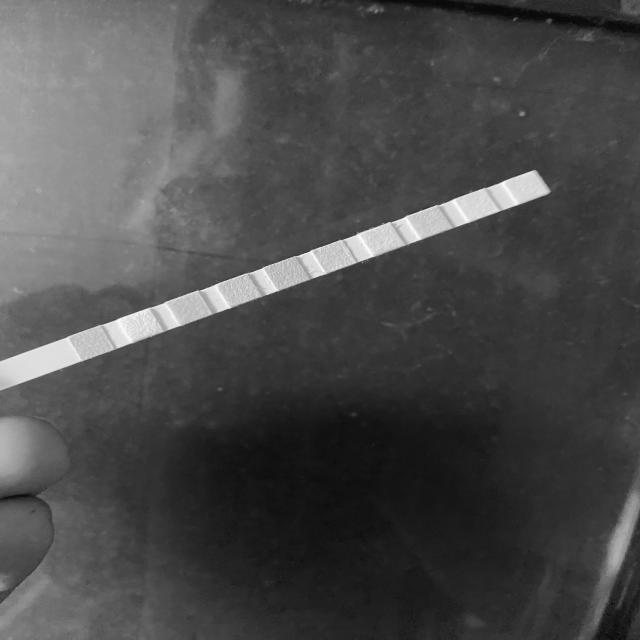Bilirubin: (126, 316, 154, 335)
Blood: (276, 263, 298, 284)
Glucose: (80, 333, 104, 353)
Ketone: (178, 298, 203, 318)
Leukocytes: (514, 178, 536, 198)
Nitrite: (465, 196, 489, 214)
Protein: (370, 229, 394, 250)
SpGravity: (227, 280, 251, 301)
Urobilinogen: (416, 212, 441, 232)
background: (0, 0, 640, 640)
pH: (322, 248, 346, 266)
strip: (0, 170, 552, 390)
